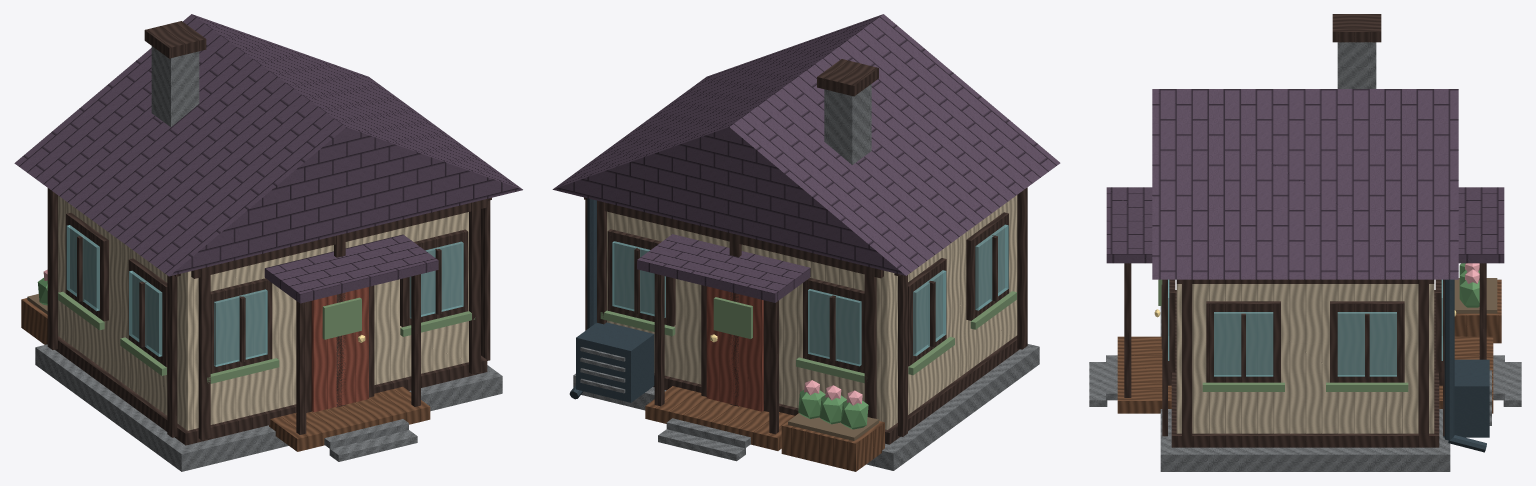
Rendered from house_tudor_lv1.glb.
3 renders of one model, left to right at view 1: azimuth 30°, elevation 25°; view 2: azimuth 150°, elevation 25°; view 3: azimuth 270°, elevation 25°, orthographic.
Visible parts, largest first — view 1: gable_roof, walls, foundation, front_porch_canopy, front_door, front_window_frame, floor_trim, front_deck, front_window_frame.001, front_window_glass, chimney, left_window_frame.001 (+24 smaller); view 2: gable_roof, walls, back_porch_canopy, foundation, back_door, back_ac_unit, back_window_frame, back_deck, back_window_frame.001, back_garden_bed, back_window_glass, chimney (+30 smaller); view 3: gable_roof, walls, foundation, right_window_frame, right_window_frame.001, floor_trim, right_window_glass, right_window_glass.001, back_porch_canopy, front_porch_canopy, front_deck, back_ac_unit (+21 smaller).
Part boxes in pixels (box(x1,y1,x2,y2)): gable_roof: box(14, 14, 522, 276); walls: box(58, 195, 468, 430); foundation: box(35, 344, 502, 471); front_porch_canopy: box(264, 234, 438, 303); front_door: box(311, 287, 368, 412); front_window_frame: box(210, 278, 272, 373); floor_trim: box(55, 336, 487, 445); front_deck: box(269, 386, 430, 451); front_window_frame.001: box(400, 229, 468, 327); front_window_glass: box(214, 289, 267, 366); chimney: box(151, 46, 199, 126); left_window_frame.001: box(66, 212, 108, 321); gable_roof: box(552, 14, 1060, 275); walls: box(607, 195, 1017, 429); back_porch_canopy: box(637, 234, 810, 302); foundation: box(573, 344, 1039, 470); back_door: box(706, 286, 763, 411); back_ac_unit: box(576, 322, 654, 402); back_window_frame: box(803, 278, 864, 373); back_deck: box(645, 386, 794, 450); back_window_frame.001: box(607, 229, 675, 326); back_garden_bed: box(781, 413, 884, 471); back_window_glass: box(808, 289, 861, 366); chimney: box(824, 84, 871, 164); gable_roof: box(1152, 89, 1458, 279); walls: box(1176, 284, 1434, 433); foundation: box(1160, 306, 1450, 471); right_window_frame: box(1206, 301, 1280, 382); right_window_frame.001: box(1330, 301, 1404, 382); floor_trim: box(1171, 290, 1439, 447); right_window_glass: box(1214, 312, 1273, 376); right_window_glass.001: box(1337, 312, 1396, 376); back_porch_canopy: box(1458, 187, 1504, 263); front_porch_canopy: box(1106, 187, 1152, 263); front_deck: box(1117, 336, 1171, 413); back_ac_unit: box(1443, 359, 1489, 437).
Size of the model in its own units: 3.15 by 2.9 by 3.36.
Materials: 13 (7 with a texture image).
